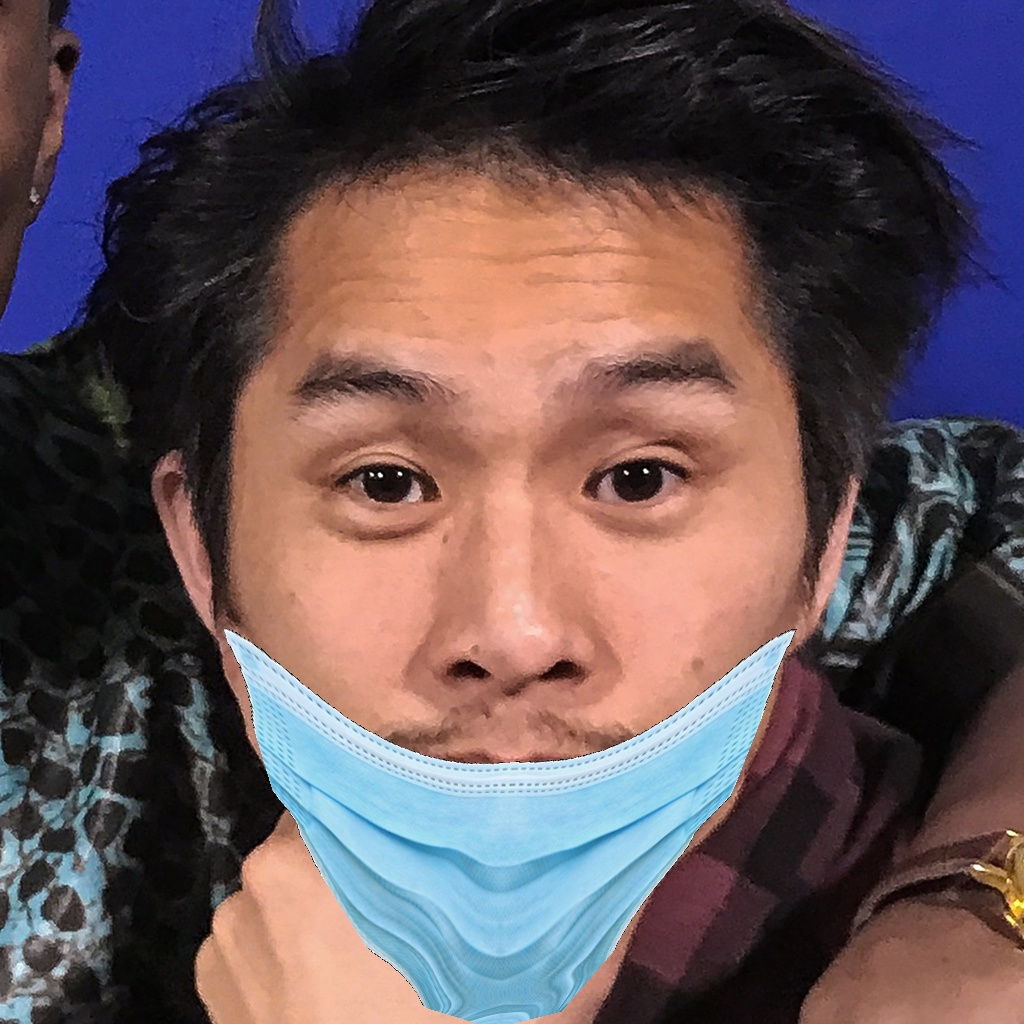mascarilla_mal_puesta: (177, 305, 802, 1015)
